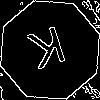K: (25, 25, 72, 80)
